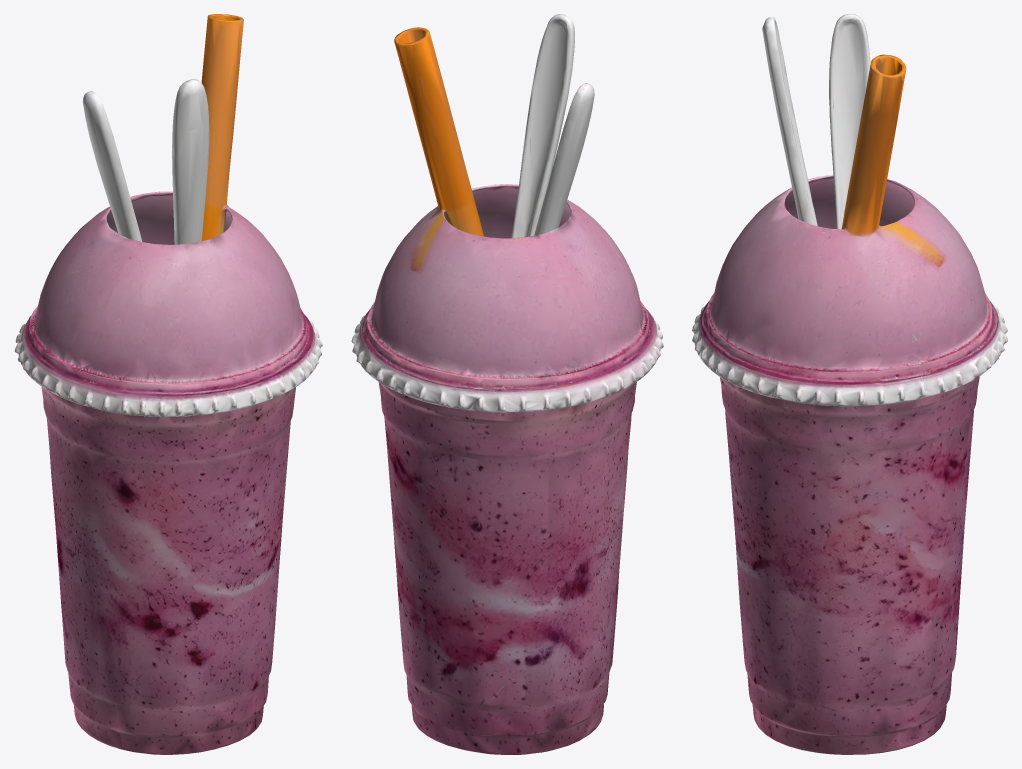
Rendered from smoothie.glb.
3 renders of one model, left to right at view 1: azimuth 30°, elevation 25°; view 2: azimuth 150°, elevation 25°; view 3: azimuth 270°, elevation 25°, orthographic. The views are drawn at different scales.
Visible parts, largest first — view 1: Mesh_0; view 2: Mesh_0; view 3: Mesh_0.
Part boxes in pixels (left/top/right/bottom): Mesh_0: left=14, top=14, right=322, bottom=754; Mesh_0: left=351, top=14, right=663, bottom=754; Mesh_0: left=692, top=14, right=1007, bottom=754.
Bounding box in the file's own units: 0.7905 × 1.91 × 0.7911.
1 material, 1 textured.
